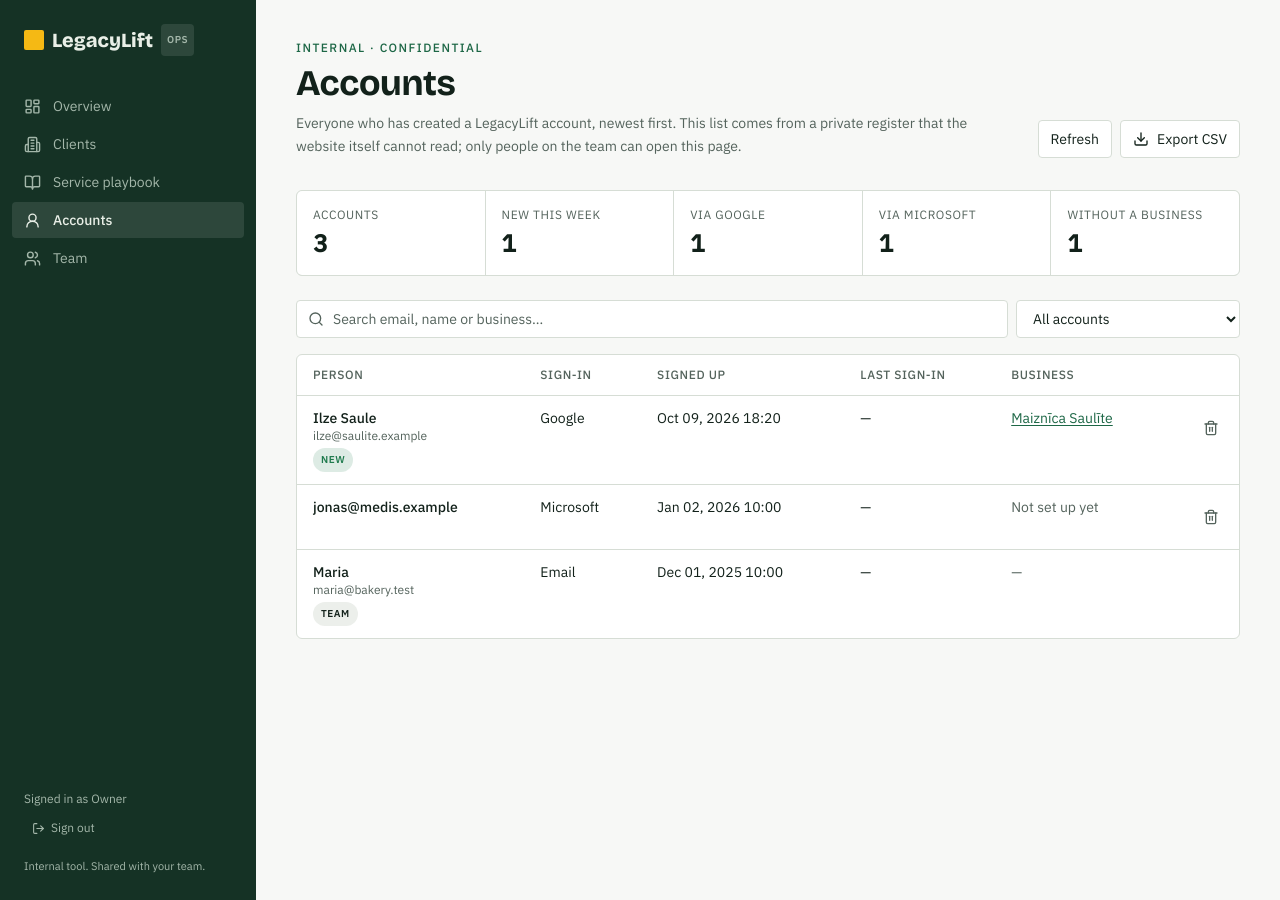
Test: team console sign-in › shows the team every account, from the private register
Expected: the heading "Accounts" is shown, [296,62,455,105]
Expected: the text "Ilze Saule" is shown, [313,408,376,426]
Select "Without a business" in the dropdown named "Show". click: {"x": 1128, "y": 318}
box: [1016,300,1240,338]
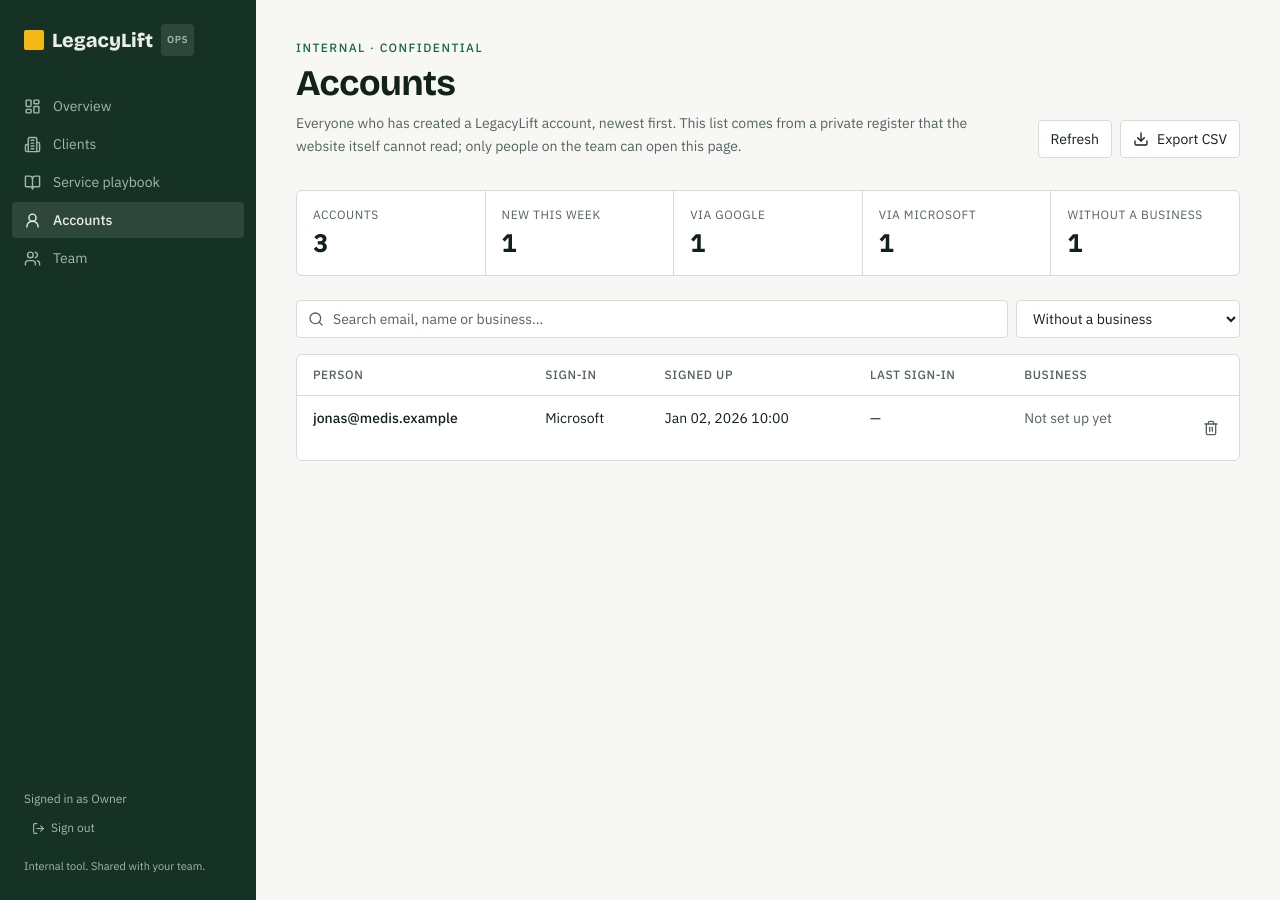
Expected: the text "jonas@medis.example" is shown, [313,408,458,426]
Expected: the text "Ilze Saule" is gone
